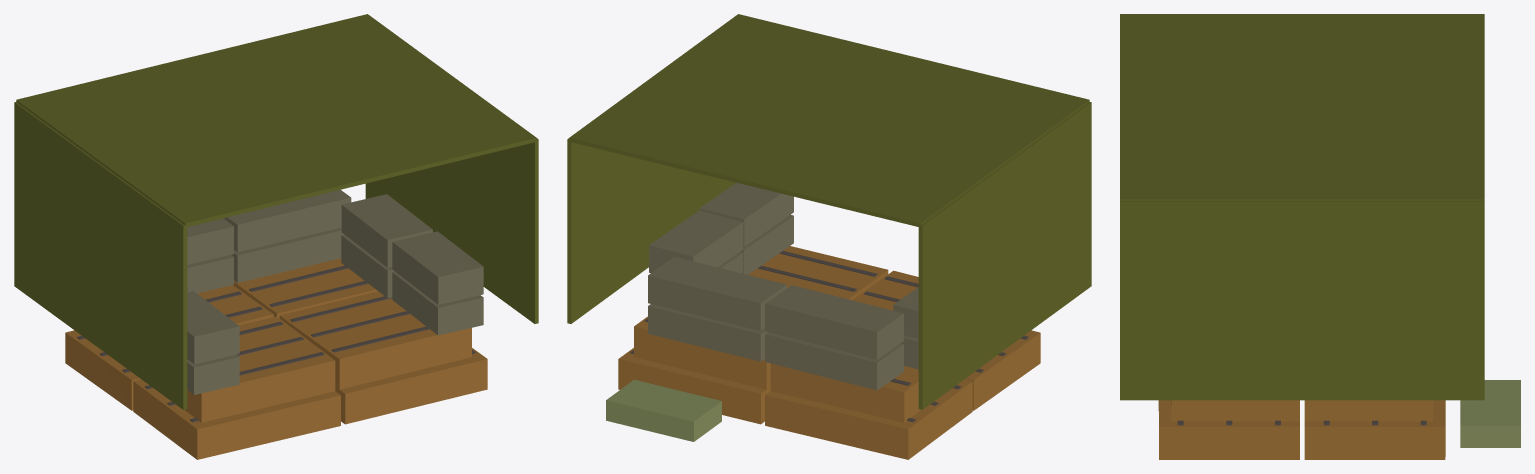
File: SM_Nido_v3_LOD0.fbx
3 views of the same model, side by side, from view 1: azimuth 30°, elevation 25°; view 2: azimuth 150°, elevation 25°; view 3: azimuth 270°, elevation 25° (orthographic). The views are drawn at different scales.
Parts seen in each view (by area): view 1: SM_banqueta_tiro_v8_LOD0; view 2: SM_banqueta_tiro_v8_LOD0; view 3: SM_banqueta_tiro_v8_LOD0.
Boxes of the visible parts, x1,y1,x2,y2 form: SM_banqueta_tiro_v8_LOD0: (14,14,538,459); SM_banqueta_tiro_v8_LOD0: (567,14,1091,459); SM_banqueta_tiro_v8_LOD0: (1120,14,1520,459).
Bounding box in the file's own units: 3.64 × 2.52 × 3.3.
